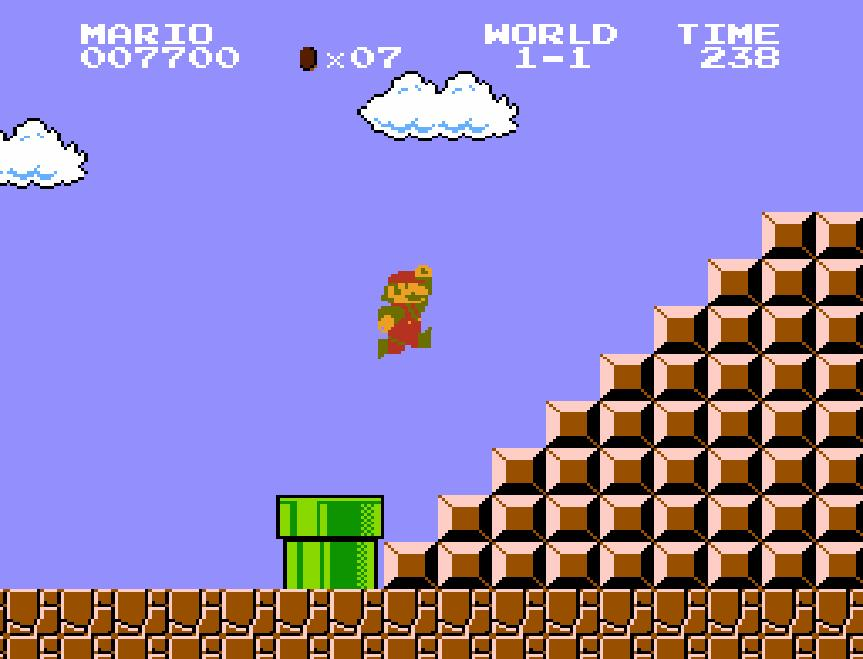big_mario: (376, 263, 434, 361)
